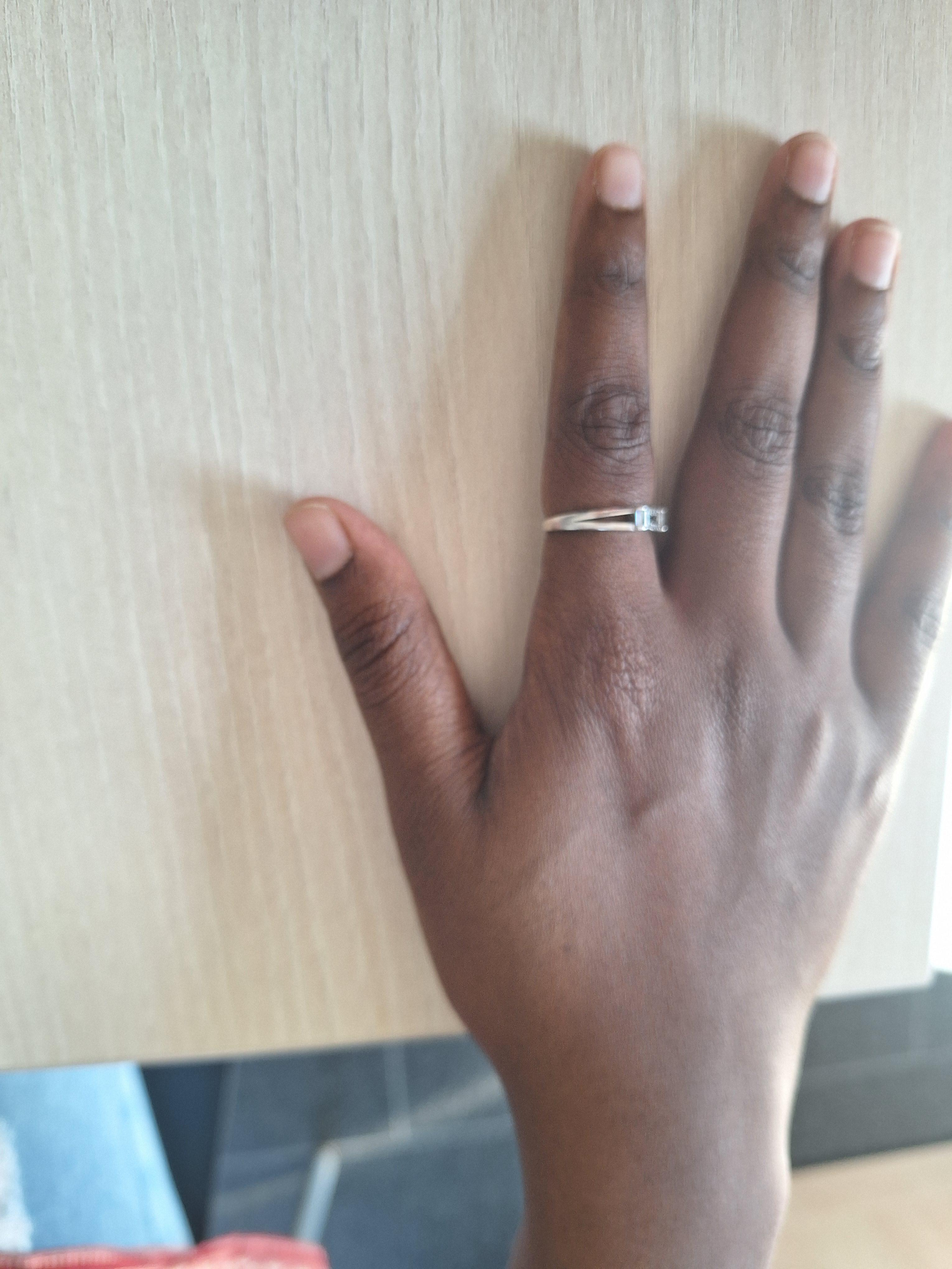Fingernail: (286, 504, 353, 581), (786, 134, 838, 206), (852, 223, 899, 291), (596, 145, 643, 210)
